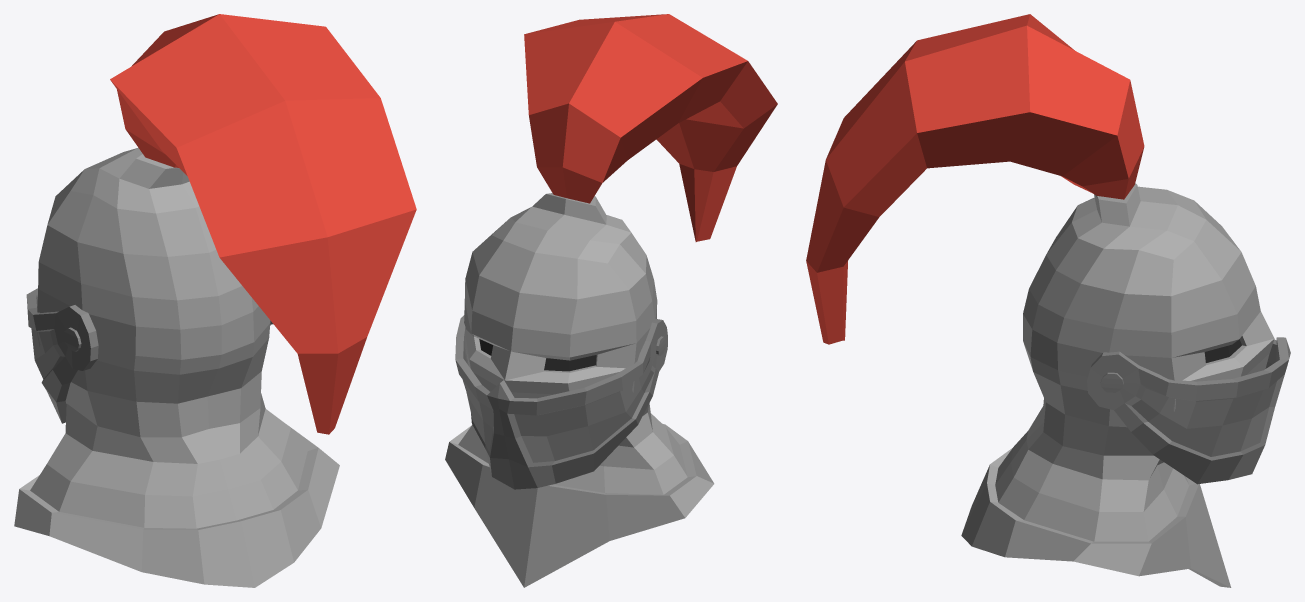
The model's file is quaternius-rpg-asset-knighthelmet.glb.
3 views of the same model, side by side, from view 1: azimuth 30°, elevation 25°; view 2: azimuth 150°, elevation 25°; view 3: azimuth 270°, elevation 25° (orthographic). The views are drawn at different scales.
Parts seen in each view (by area): view 1: Helmet, Front; view 2: Helmet, Front; view 3: Helmet, Front.
Boxes of the visible parts, left/top/right/bottom form: Helmet: left=14, top=14, right=416, bottom=587; Front: left=26, top=288, right=272, bottom=423; Helmet: left=445, top=14, right=777, bottom=587; Front: left=455, top=315, right=667, bottom=489; Helmet: left=806, top=14, right=1274, bottom=587; Front: left=1087, top=337, right=1290, bottom=484.
Size of the model in its own units: 1.16 by 2.31 by 1.8.
